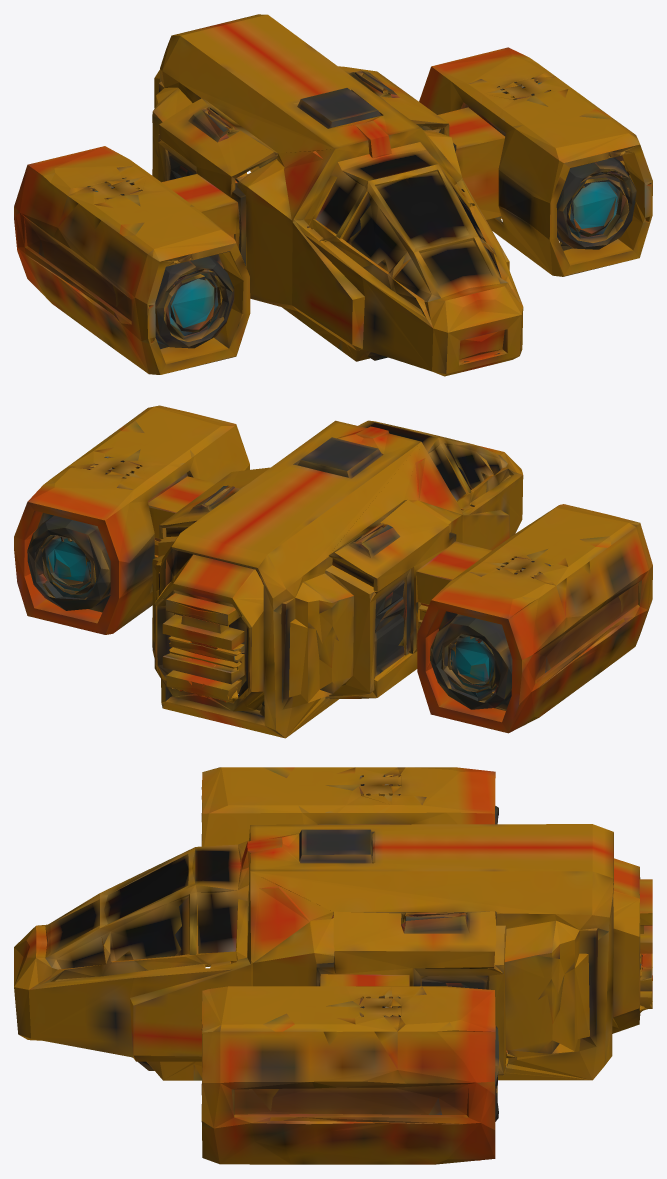
3 renders of one model, top to bottom at view 1: azimuth 30°, elevation 25°; view 2: azimuth 150°, elevation 25°; view 3: azimuth 270°, elevation 25°, orthographic. The views are drawn at different scales.
Visible parts, largest first — view 1: world; view 2: world; view 3: world.
Part boxes in pixels (box(x1,y1,x2,y2)): world: box(14, 14, 652, 376); world: box(14, 405, 652, 738); world: box(14, 767, 652, 1164).
Size of the model in its own units: 1 by 0.345 by 0.9731.
Materials: 4 (1 with a texture image).
